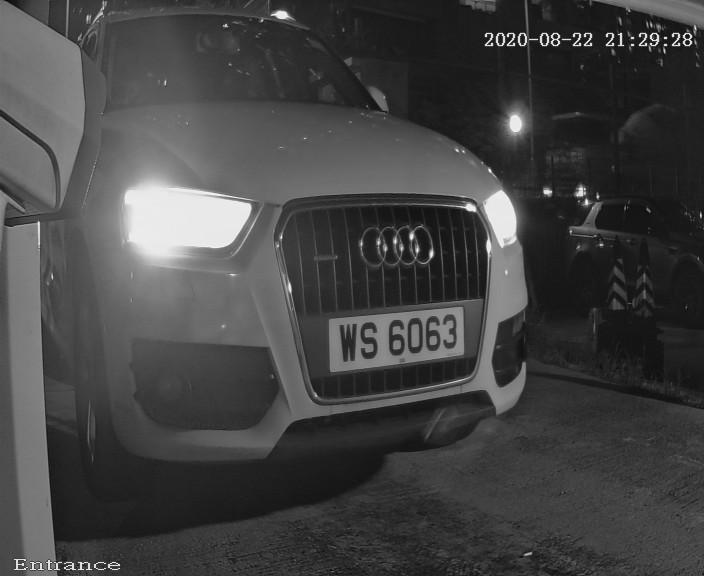Car: (10, 11, 557, 505)
License Plate: (310, 279, 489, 408)
